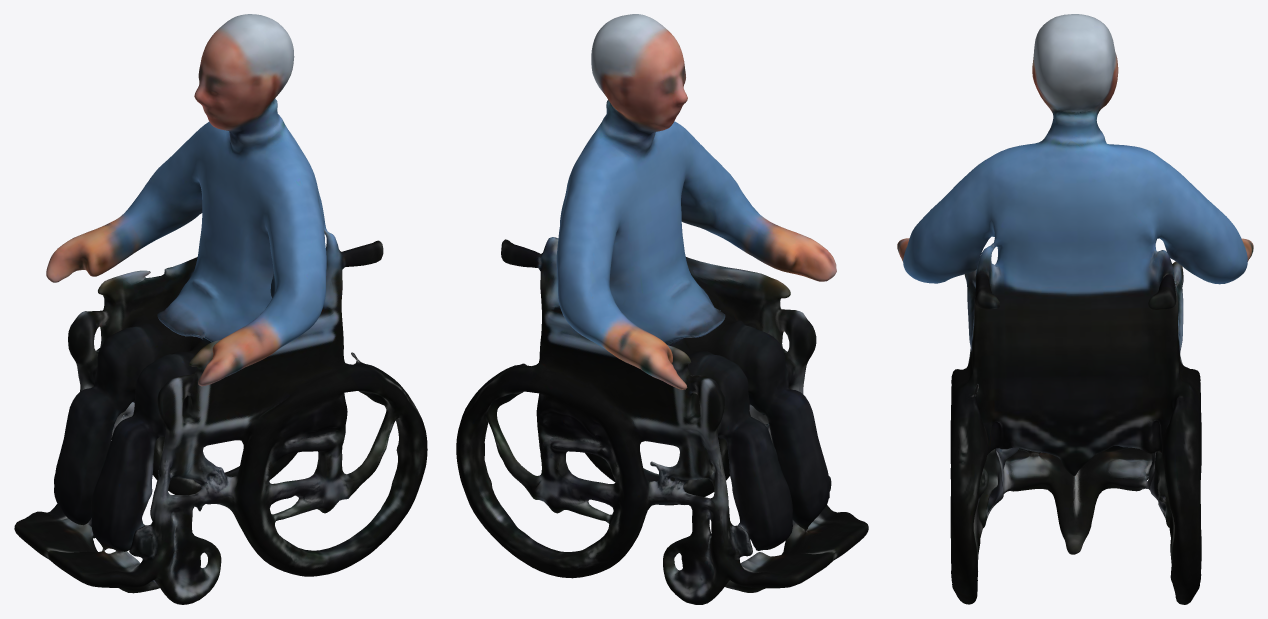
The model's file is eff7ce06f532_93508fd98763_Elderly_man_in_whee.glb.
The picture shows the model from 3 angles, left to right: view 1: azimuth 30°, elevation 25°; view 2: azimuth 150°, elevation 25°; view 3: azimuth 270°, elevation 25°; orthographic projection. The views are drawn at different scales.
Parts seen in each view (by area): view 1: high_poly; view 2: high_poly; view 3: high_poly.
Part boxes in pixels (x1,y1,x2,y2): high_poly: (14, 14, 427, 604); high_poly: (456, 14, 868, 604); high_poly: (897, 14, 1253, 604).
Size of the model in its own units: 0.6332 by 1 by 0.5517.
Materials: 1 (1 with a texture image).
